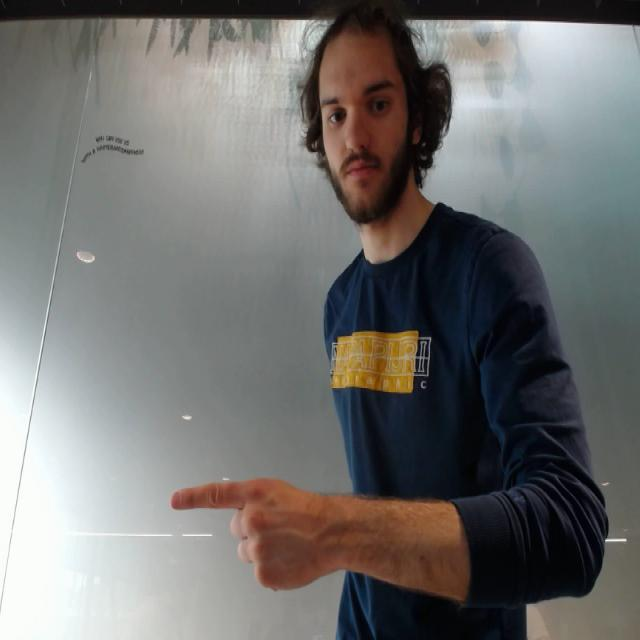left: (165, 465, 342, 597)
